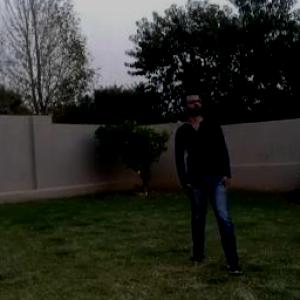follow: (171, 79, 238, 273)
